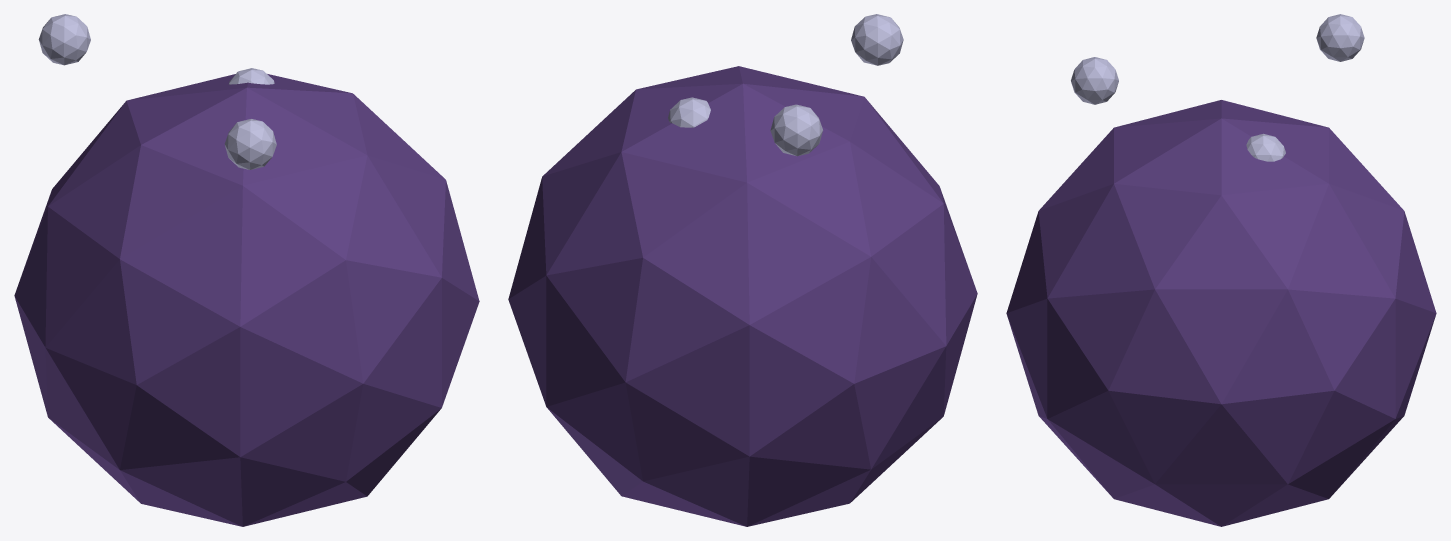
File: void_horror.glb
3 views of the same model, side by side, from view 1: azimuth 30°, elevation 25°; view 2: azimuth 150°, elevation 25°; view 3: azimuth 270°, elevation 25° (orthographic). The views are drawn at different scales.
Parts seen in each view (by area): view 1: geometry_0; view 2: geometry_0; view 3: geometry_0.
Boxes of the visible parts, <box> form: geometry_0: <box>14,14,479,526</box>; geometry_0: <box>508,14,977,526</box>; geometry_0: <box>1006,14,1436,526</box>.
Size of the model in its own units: 0.8 by 0.9011 by 0.8.
